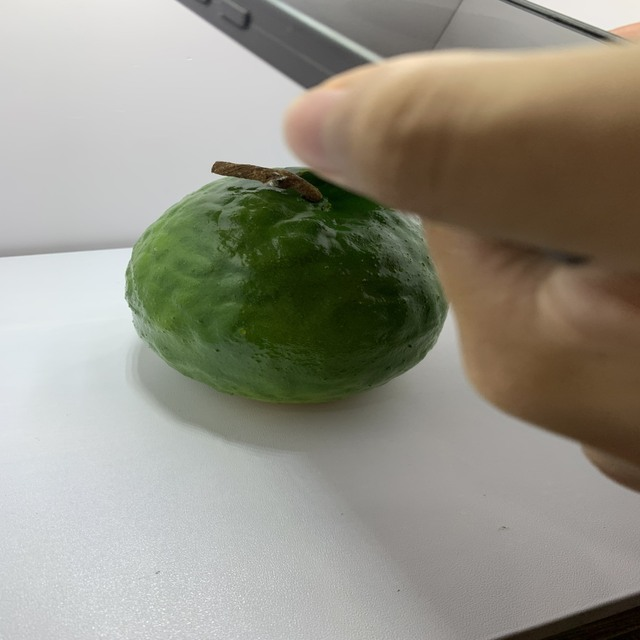Cam xanh: (109, 154, 453, 413)
